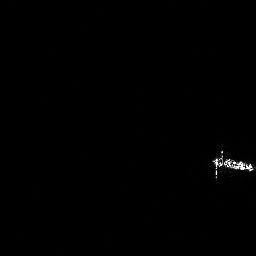ship: (211, 150, 255, 179)
